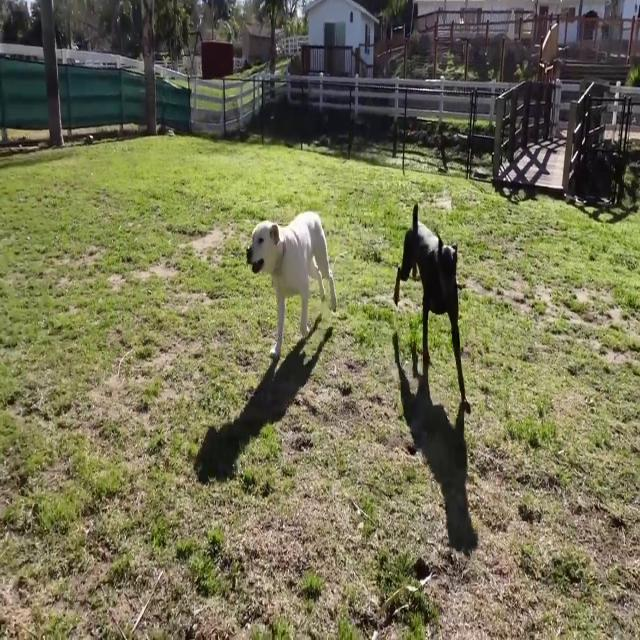Dog: (392, 199, 471, 411), (244, 209, 338, 360)
